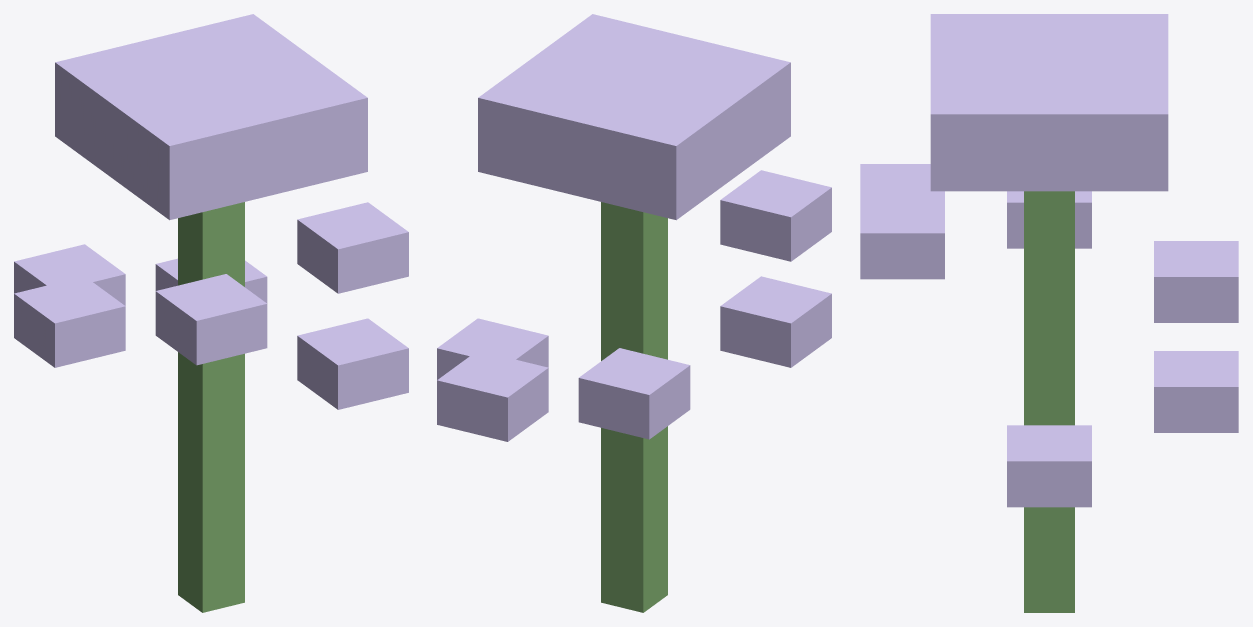
File: Prop_DS_Herb_BufferBloom_S3_V3.glb
3 renders of one model, left to right at view 1: azimuth 30°, elevation 25°; view 2: azimuth 150°, elevation 25°; view 3: azimuth 270°, elevation 25°, orthographic. The views are drawn at different scales.
Parts seen in each view (by area): view 1: Cube.007, Cube, Cube.005, Cube.004, Cube.001, Cube.006, Cube.003, Cube.002; view 2: Cube.007, Cube, Cube.003, Cube.002, Cube.004, Cube.005, Cube.001; view 3: Cube.007, Cube, Cube.001, Cube.006, Cube.002, Cube.003, Cube.005, Cube.004.
Boxes of the visible parts, x1,y1,x2,y2 form: Cube.007: [55, 14, 367, 220]; Cube: [178, 202, 244, 612]; Cube.005: [155, 274, 267, 365]; Cube.004: [14, 276, 125, 367]; Cube.001: [297, 318, 408, 409]; Cube.006: [297, 202, 408, 293]; Cube.003: [14, 244, 125, 305]; Cube.002: [155, 258, 267, 303]; Cube.007: [478, 14, 790, 220]; Cube: [601, 202, 667, 612]; Cube.003: [578, 348, 690, 439]; Cube.002: [437, 350, 548, 441]; Cube.004: [720, 276, 831, 367]; Cube.005: [720, 170, 831, 261]; Cube.001: [437, 318, 548, 379]; Cube.007: [930, 14, 1168, 191]; Cube: [1024, 191, 1074, 612]; Cube.001: [1007, 425, 1091, 507]; Cube.006: [860, 197, 944, 279]; Cube.002: [1154, 351, 1238, 432]; Cube.003: [1154, 241, 1238, 322]; Cube.005: [860, 164, 944, 197]; Cube.004: [1007, 191, 1091, 248].
Size of the model in its own units: 0.5 by 0.7 by 0.4464.
